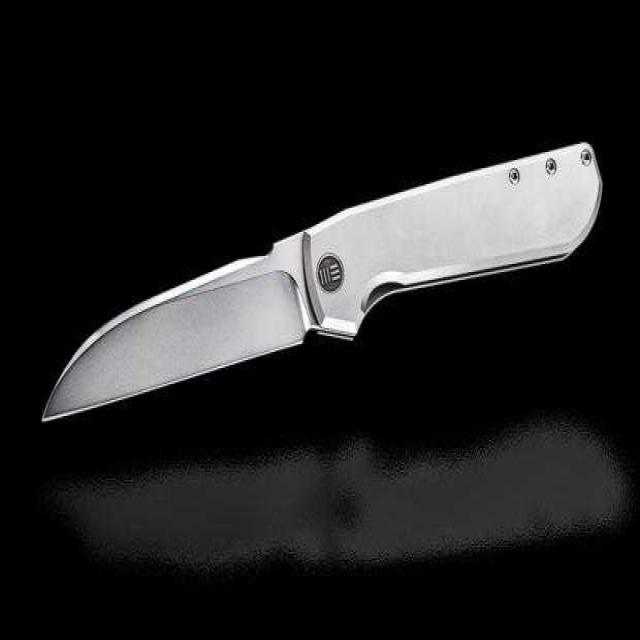Knife: (33, 9, 640, 451)
